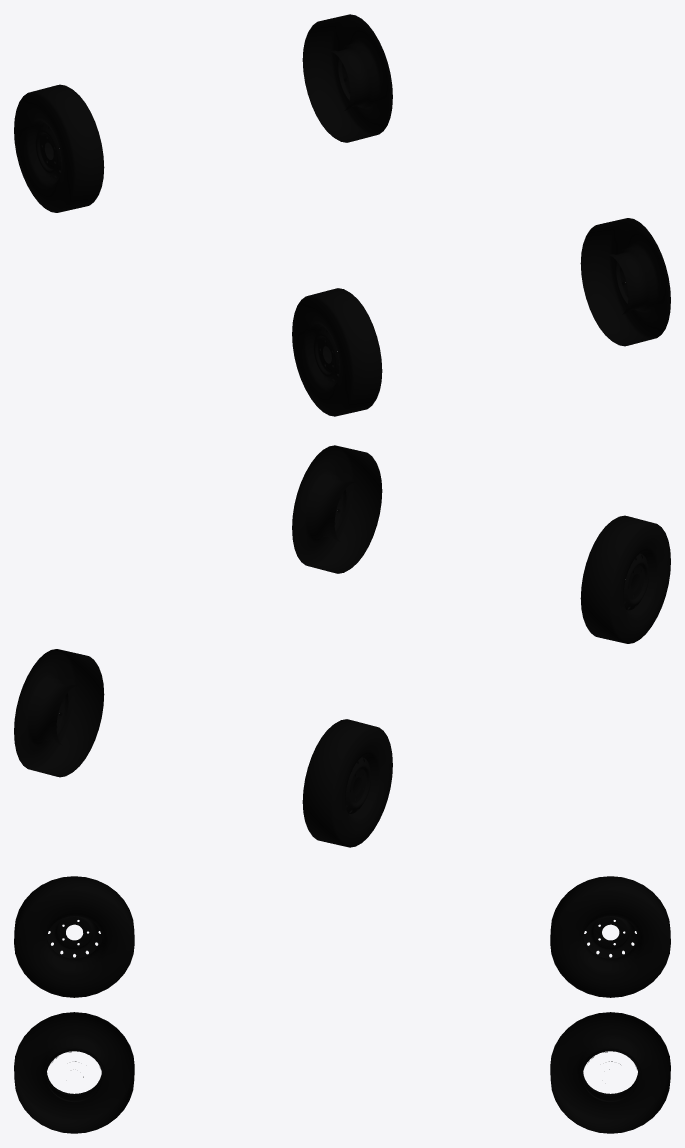
3 views of the same model, one above another, from view 1: azimuth 30°, elevation 25°; view 2: azimuth 150°, elevation 25°; view 3: azimuth 270°, elevation 25° (orthographic). The views are drawn at different scales.
Visible parts, largest first — view 1: wheels_Wheel_dirt.003; view 2: wheels_Wheel_dirt.003; view 3: wheels_Wheel_dirt.003.
Boxes of the visible parts, x1,y1,x2,y2 form: wheels_Wheel_dirt.003: (14, 14, 670, 416); wheels_Wheel_dirt.003: (14, 445, 670, 847); wheels_Wheel_dirt.003: (14, 876, 670, 1133).
Size of the model in its own units: 1.22 by 0.4105 by 2.23.
Materials: 1 (1 with a texture image).
